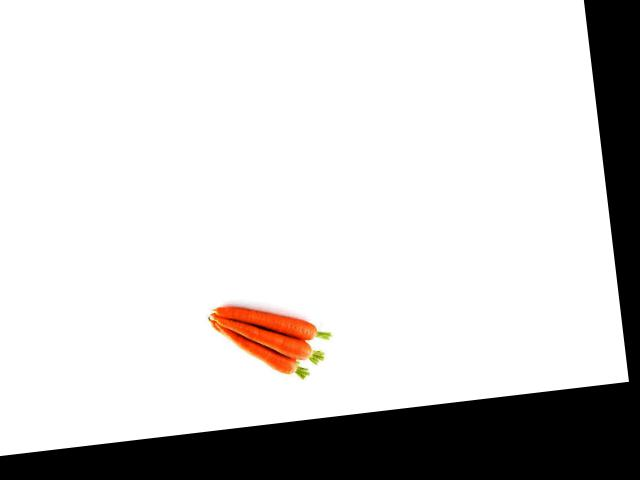carrot: (215, 293, 327, 352)
